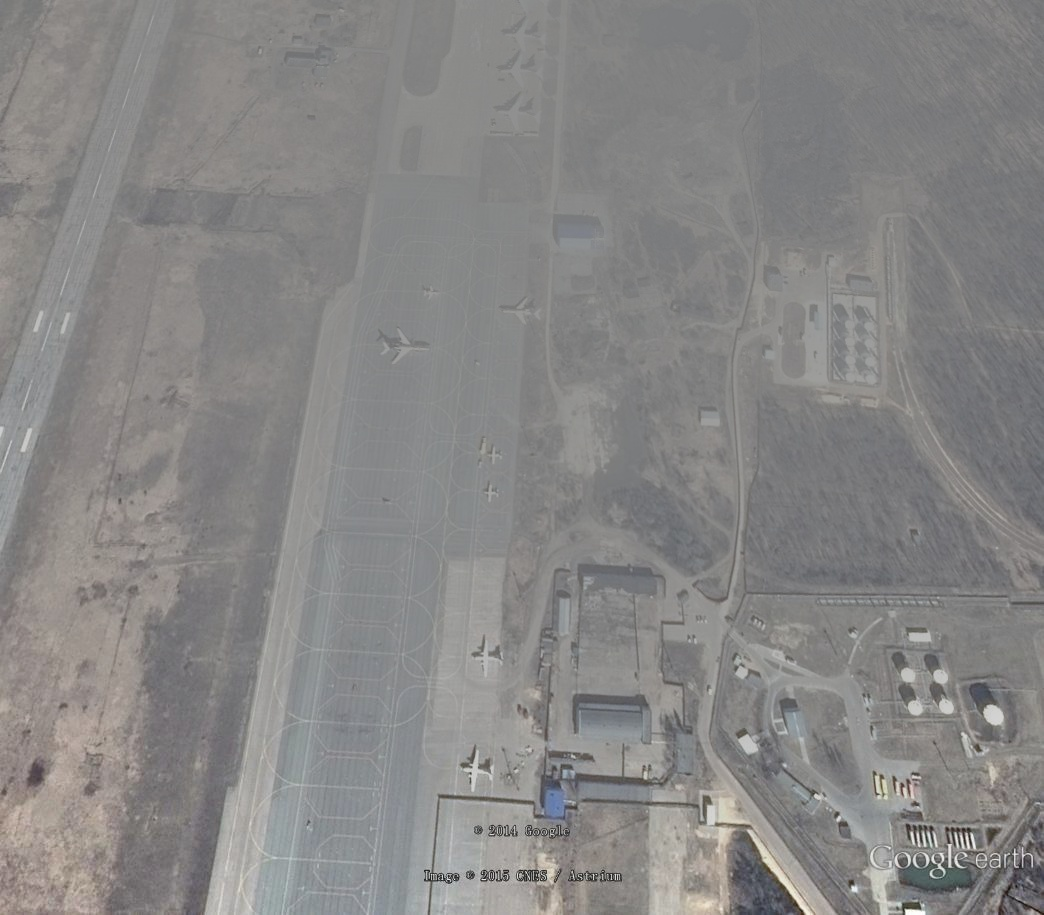aircraft: (377, 327, 434, 369), (495, 88, 544, 135), (497, 48, 548, 91), (502, 14, 551, 56), (460, 747, 499, 795), (497, 292, 545, 329), (472, 632, 508, 681), (480, 480, 503, 506), (486, 445, 504, 467), (426, 285, 442, 303)
